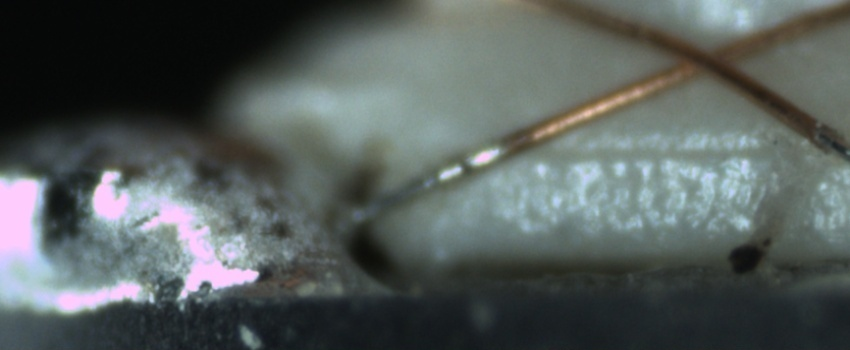CL: (658, 27, 753, 89)
DL: (524, 124, 815, 186)
TS: (360, 143, 515, 219)
TTCW: (342, 118, 539, 226)
